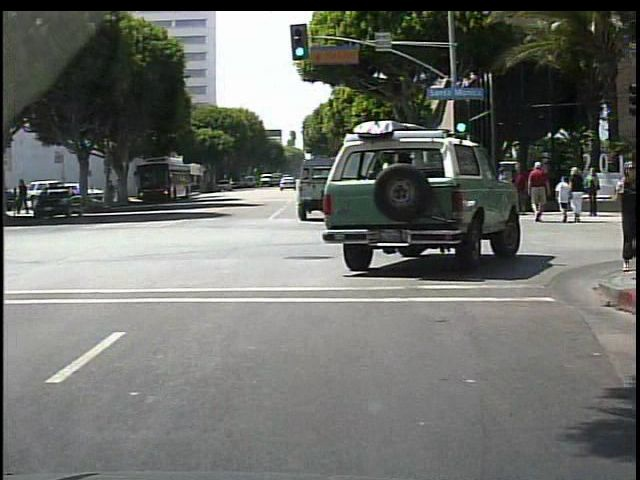person: (611, 164, 640, 269), (526, 161, 549, 225), (554, 174, 574, 224), (570, 166, 587, 223), (584, 166, 600, 218), (469, 168, 485, 216), (510, 164, 524, 215), (496, 168, 511, 215), (502, 165, 514, 211), (458, 166, 469, 216), (116, 178, 125, 206), (108, 178, 117, 202)
